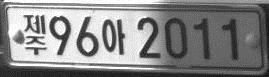0: (164, 17, 188, 59)
1: (192, 16, 212, 61), (220, 17, 240, 61)
2: (136, 16, 161, 59)
6: (76, 16, 100, 56)
9: (49, 15, 72, 56)
아: (100, 17, 127, 55)
제주_V: (22, 13, 48, 55)
